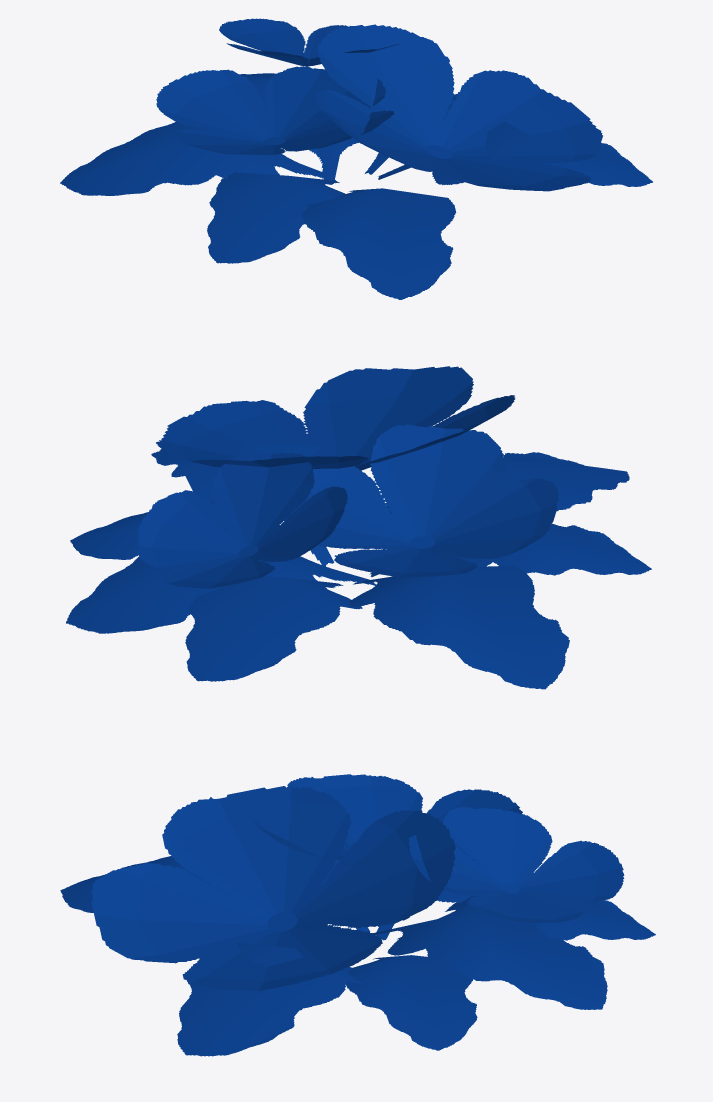
File: SM_FloorFlower1.fbx
The picture shows the model from 3 angles, top to bottom: view 1: azimuth 30°, elevation 25°; view 2: azimuth 150°, elevation 25°; view 3: azimuth 270°, elevation 25°; orthographic projection. The views are drawn at different scales.
Parts seen in each view (by area): view 1: Circle003; view 2: Circle003; view 3: Circle003.
Part boxes in pixels (bbox=[...]): Circle003: bbox=[60, 18, 652, 299]; Circle003: bbox=[66, 366, 651, 689]; Circle003: bbox=[60, 774, 655, 1056].
Bounding box in the file's own units: 25.09 × 6.74 × 26.64.
